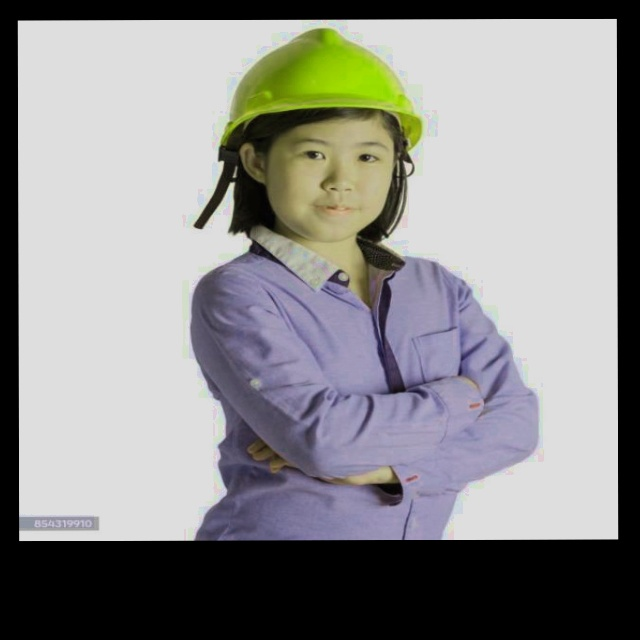Con_Casco: (221, 29, 423, 245)
Sin_Chaleco: (195, 251, 478, 541)
